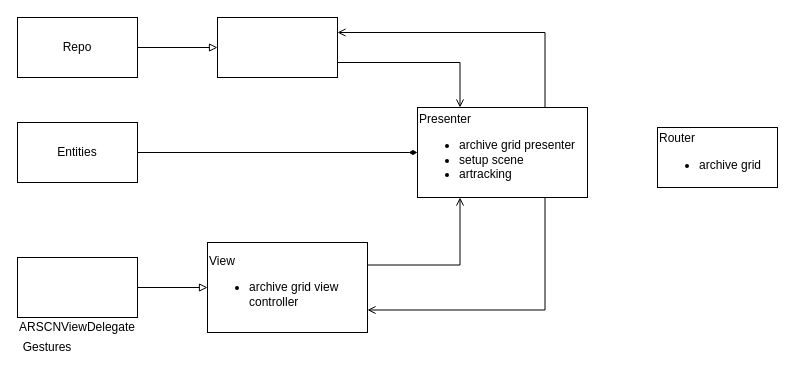
Image size: 795x375. Some labels were removed from this diagram. The centre of each missing label's shape, as x and y in pixels:
Extensions: [77,287]
Services: [277,47]
